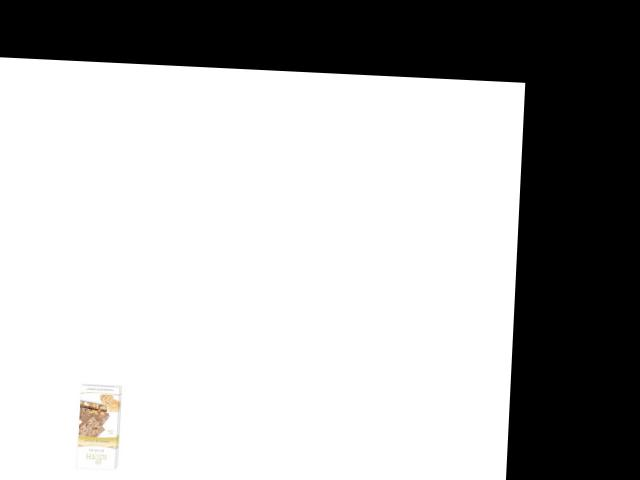chocolate: (75, 381, 124, 473)
